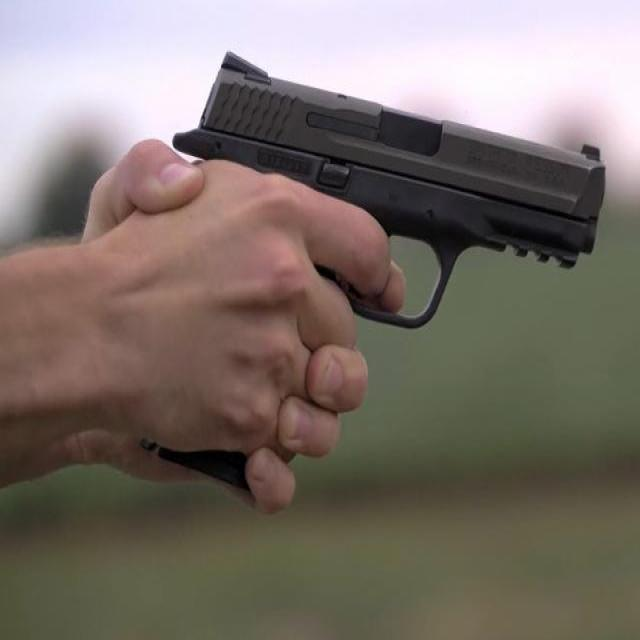HandGun: (171, 53, 608, 332)
